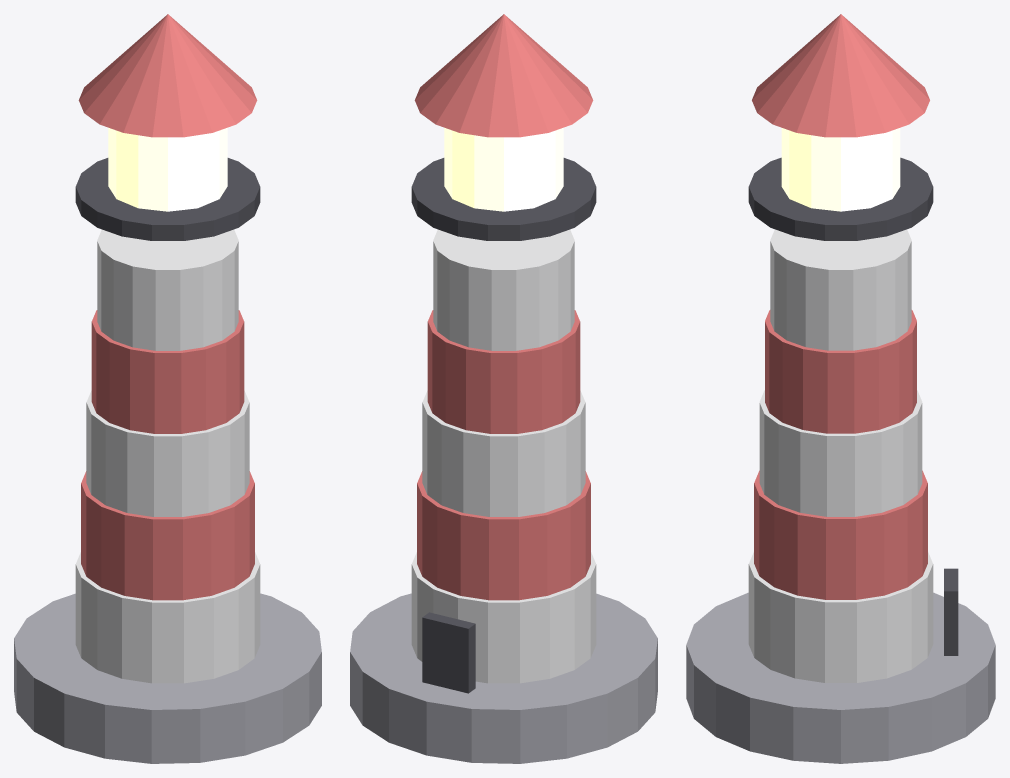
The model's file is lighthouse.glb.
3 renders of one model, left to right at view 1: azimuth 30°, elevation 25°; view 2: azimuth 150°, elevation 25°; view 3: azimuth 270°, elevation 25°, orthographic.
Visible parts, largest first — view 1: Base, Tower0, Tower4, Tower1, Tower2, Roof, Tower3, LampRoom, Gallery; view 2: Base, Tower4, Tower1, Tower2, Roof, Tower3, Tower0, LampRoom, Gallery, Door; view 3: Base, Tower0, Tower4, Tower1, Tower2, Roof, Tower3, LampRoom, Gallery, Door.
Part boxes in pixels (x1,y1,x2,y2): Base: [14, 593, 321, 763]; Tower0: [75, 552, 260, 683]; Tower4: [97, 229, 238, 350]; Tower1: [81, 471, 254, 600]; Tower2: [86, 390, 249, 516]; Roof: [78, 14, 257, 137]; Tower3: [91, 310, 244, 433]; LampRoom: [108, 127, 227, 211]; Gallery: [75, 158, 260, 240]; Base: [350, 593, 657, 763]; Tower4: [433, 229, 574, 350]; Tower1: [417, 471, 590, 600]; Tower2: [422, 390, 585, 516]; Roof: [414, 14, 593, 137]; Tower3: [427, 310, 580, 433]; Tower0: [411, 552, 596, 683]; LampRoom: [444, 127, 563, 211]; Gallery: [411, 158, 596, 240]; Door: [422, 612, 475, 693]; Base: [686, 592, 995, 763]; Tower0: [748, 552, 933, 682]; Tower4: [770, 229, 911, 350]; Tower1: [754, 470, 927, 599]; Tower2: [759, 390, 922, 516]; Roof: [752, 14, 929, 137]; Tower3: [765, 310, 916, 433]; LampRoom: [781, 128, 900, 211]; Gallery: [748, 157, 933, 240]; Door: [944, 568, 958, 655].
Size of the model in its own units: 5.2 by 12.7 by 5.2.
